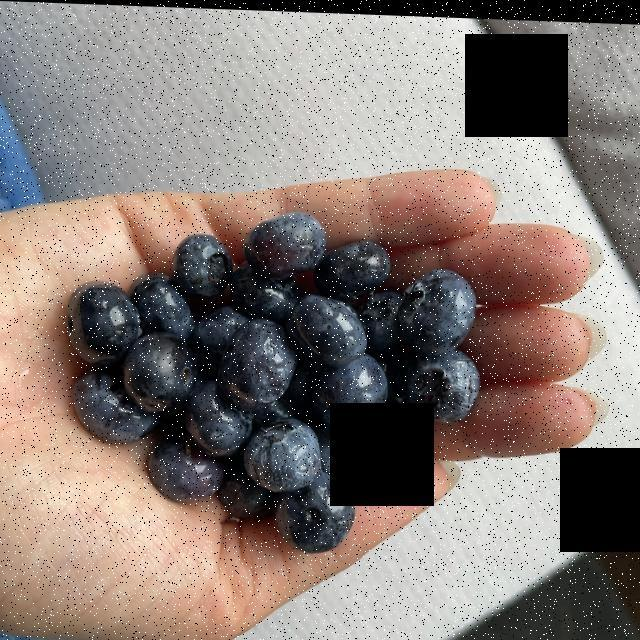blueberries: (76, 216, 475, 540)
